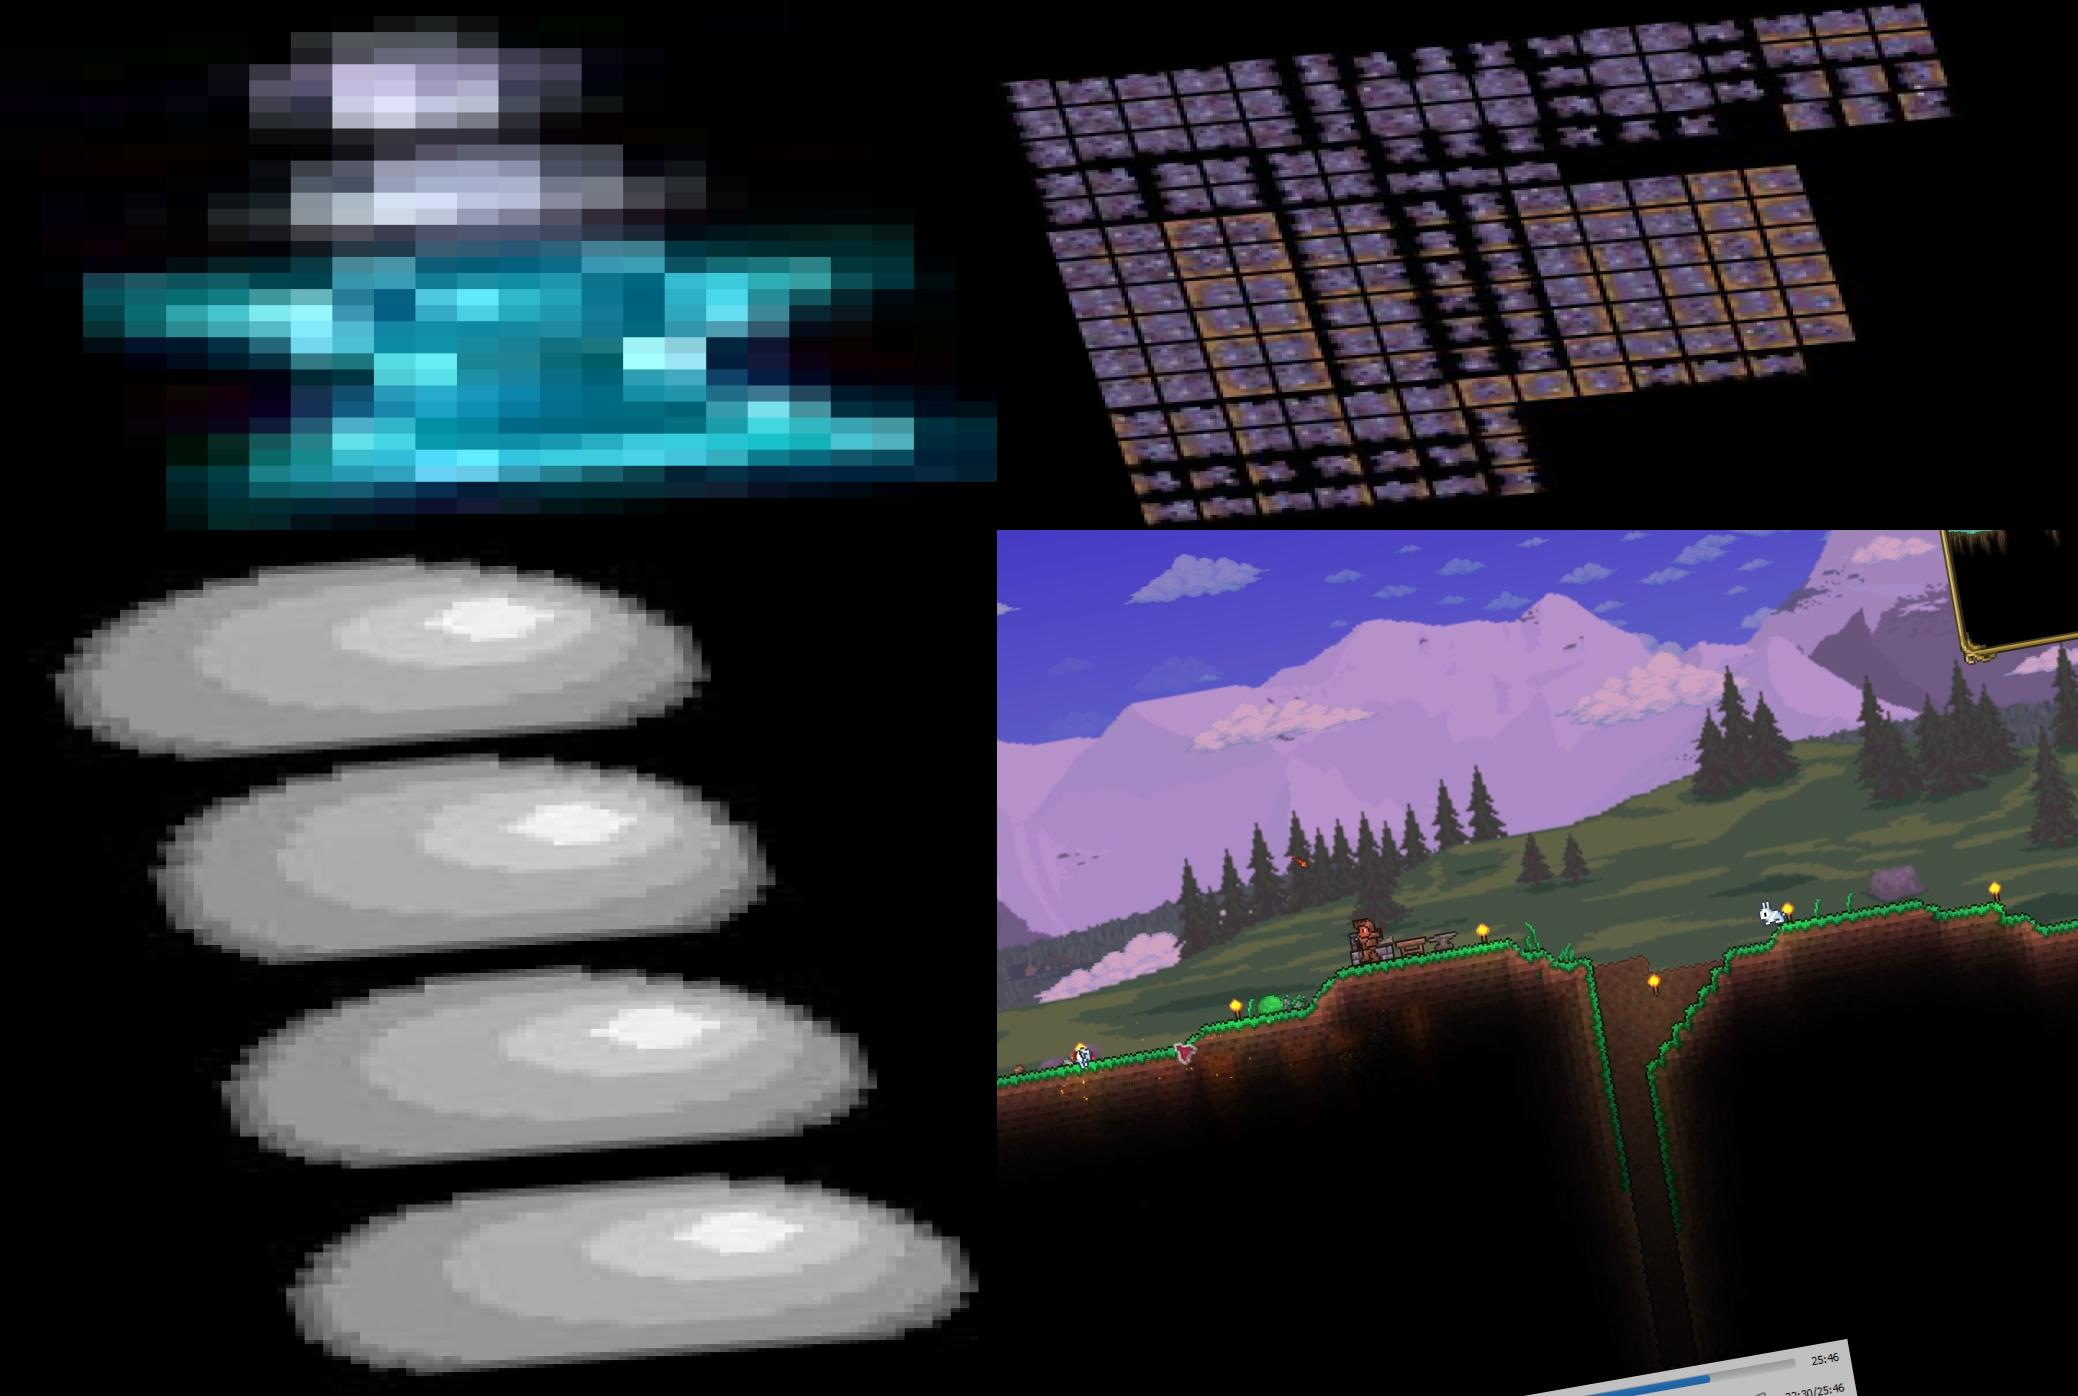ebony: (997, 78, 1062, 111)
recallP: (0, 0, 997, 530)
slime: (0, 530, 729, 773)
